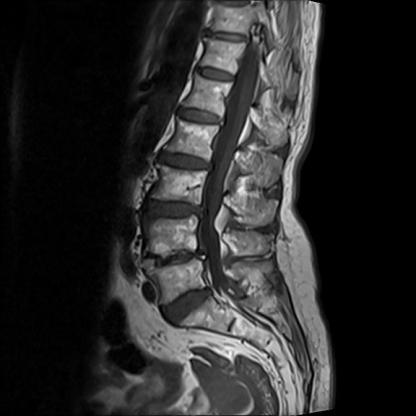Annular Tearrotation: (146, 248, 203, 273), (159, 292, 216, 317)
Disc Bulgerotation: (159, 292, 216, 317), (146, 248, 203, 273), (158, 150, 210, 174), (176, 107, 223, 127)
